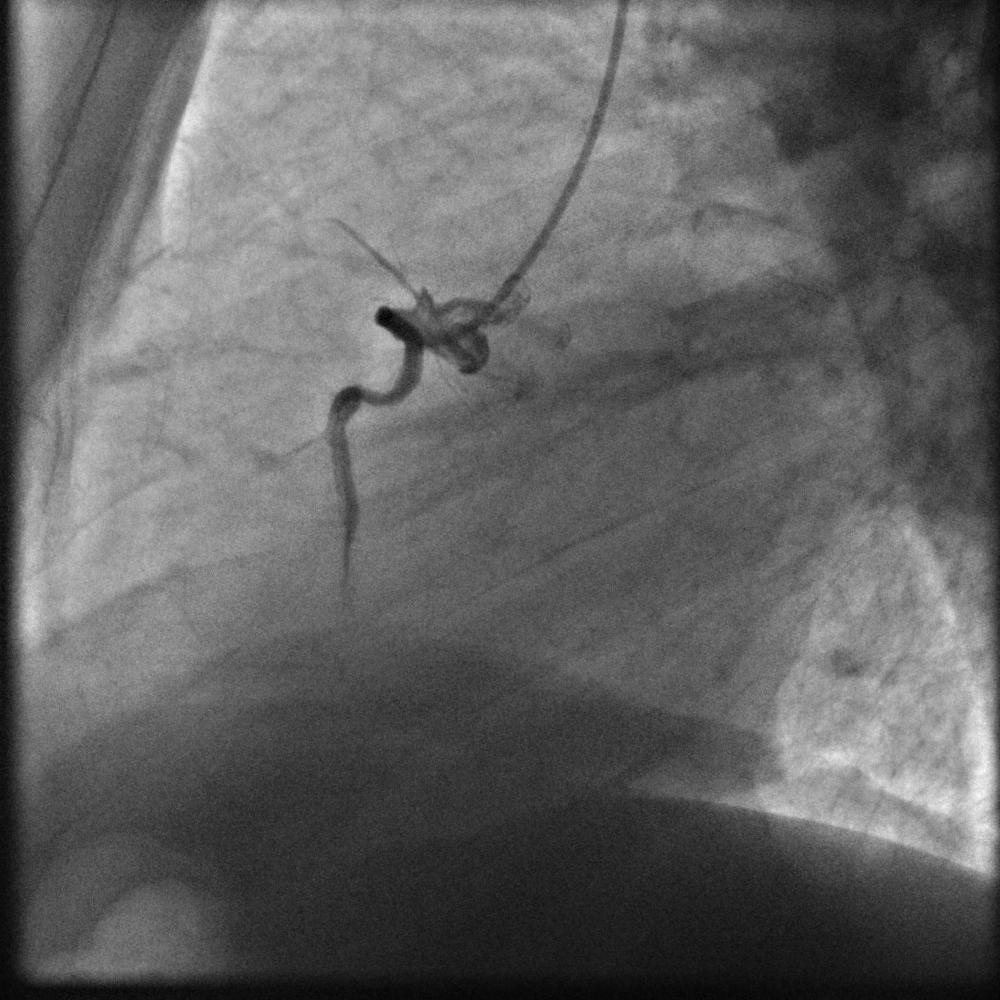Stenosis: (358, 383, 385, 407)
